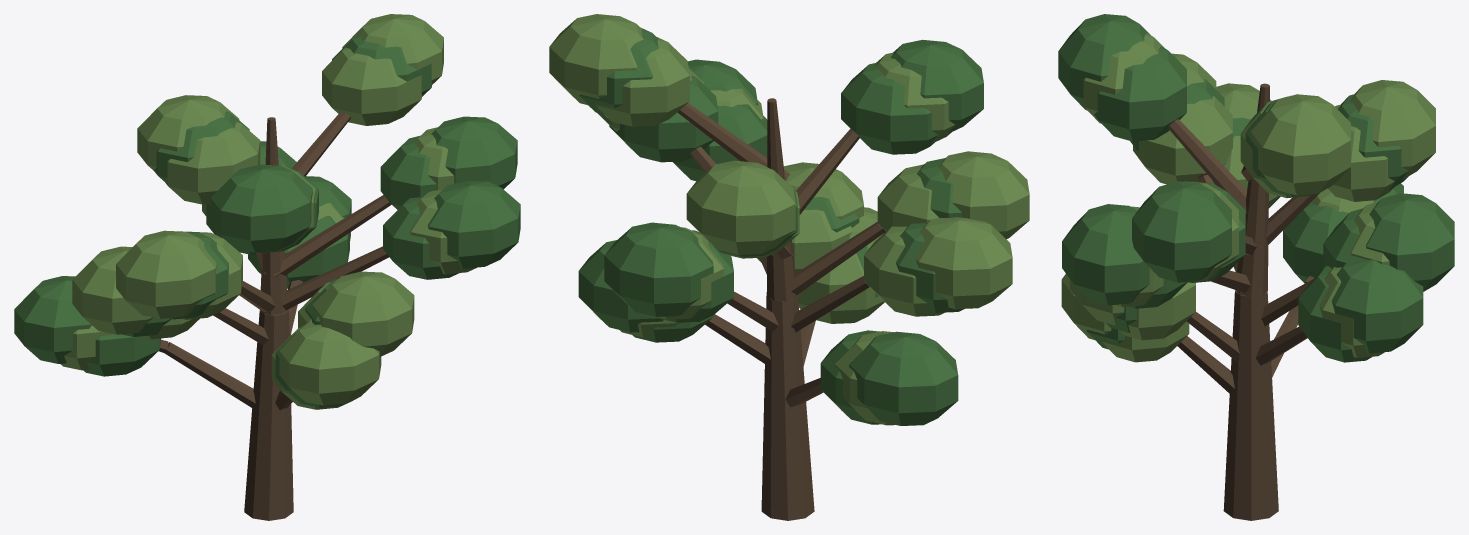
File: oak-natural.glb
3 views of the same model, side by side, from view 1: azimuth 30°, elevation 25°; view 2: azimuth 150°, elevation 25°; view 3: azimuth 270°, elevation 25° (orthographic). The views are drawn at different scales.
Visible parts, largest first — view 1: oak-natural-leaf-light, oak-natural-leaf, oak-natural-bark; view 2: oak-natural-leaf-light, oak-natural-leaf, oak-natural-bark; view 3: oak-natural-leaf, oak-natural-leaf-light, oak-natural-bark.
Part boxes in pixels (box(x1,y1,x2,y2)): oak-natural-leaf-light: box(60, 14, 476, 409); oak-natural-leaf: box(14, 35, 520, 407); oak-natural-bark: box(158, 112, 391, 520); oak-natural-leaf-light: box(549, 14, 1029, 425); oak-natural-leaf: box(578, 27, 983, 425); oak-natural-bark: box(677, 98, 885, 520); oak-natural-leaf: box(1058, 14, 1454, 362); oak-natural-leaf-light: box(1061, 33, 1435, 362); oak-natural-bark: box(1168, 83, 1319, 520).
Bounding box in the file's own units: 6.11 × 6.16 × 4.53.
